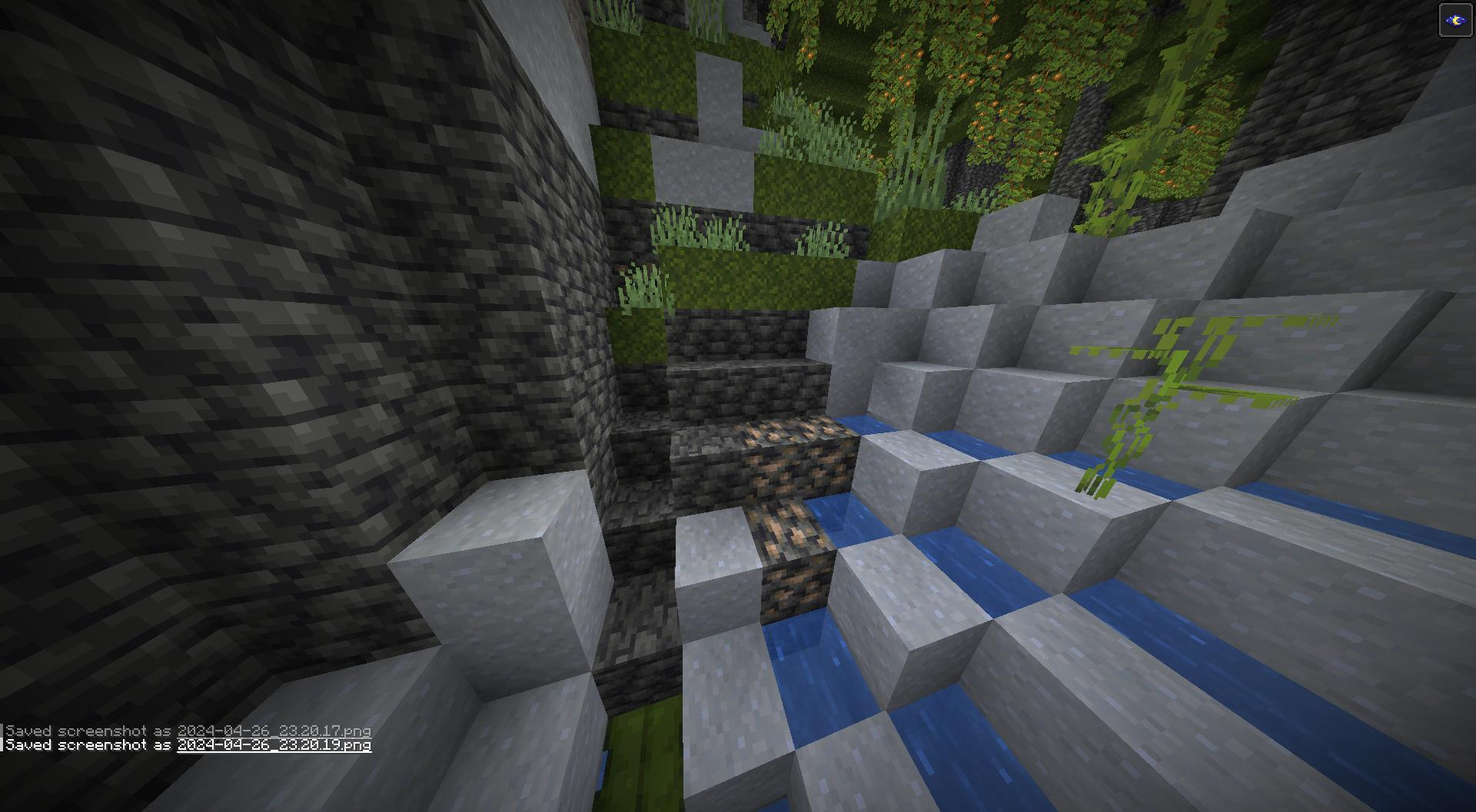iron ore: (752, 503, 824, 560), (762, 562, 831, 615), (742, 449, 800, 504), (803, 446, 853, 495), (738, 415, 793, 449), (794, 416, 847, 447)
